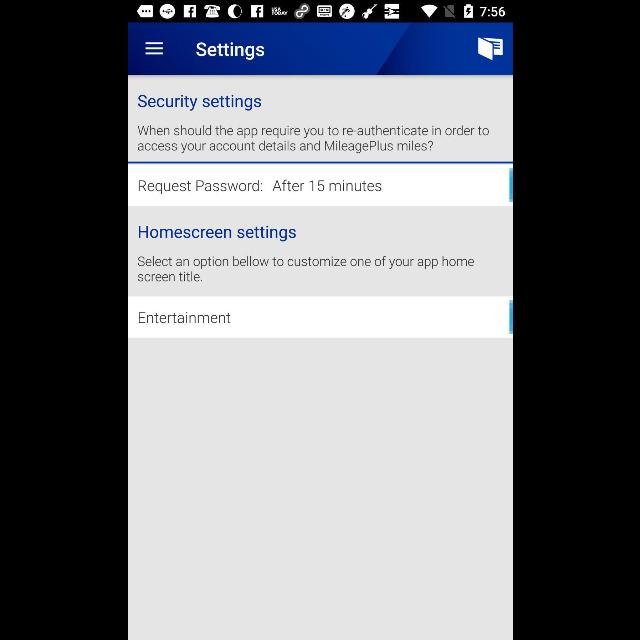icon: (478, 38, 502, 61), (145, 42, 163, 56)
text: (136, 125, 488, 153), (137, 256, 473, 282), (137, 180, 380, 194), (138, 226, 296, 242), (137, 95, 260, 112), (196, 43, 264, 61), (138, 312, 230, 324)
toolbar: (128, 23, 512, 75)
uppertaskbar: (128, 1, 512, 23)
